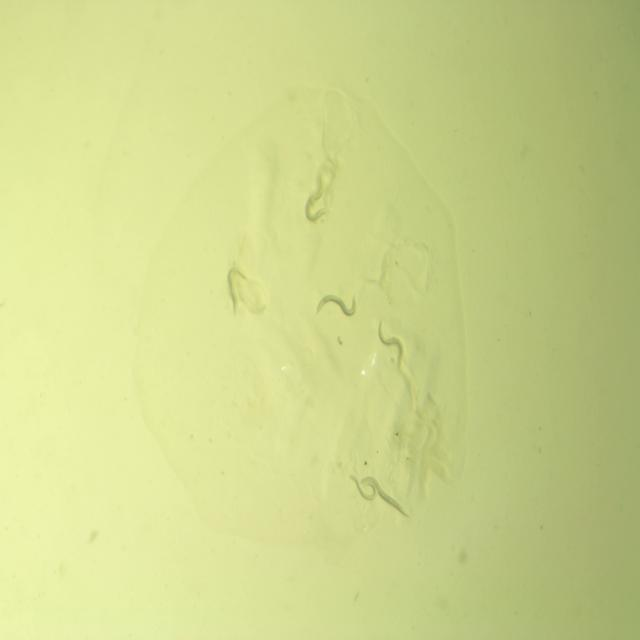worm: (358, 475, 413, 524), (220, 256, 253, 322), (310, 282, 361, 323), (372, 316, 408, 372), (301, 176, 333, 230), (342, 466, 380, 506)
